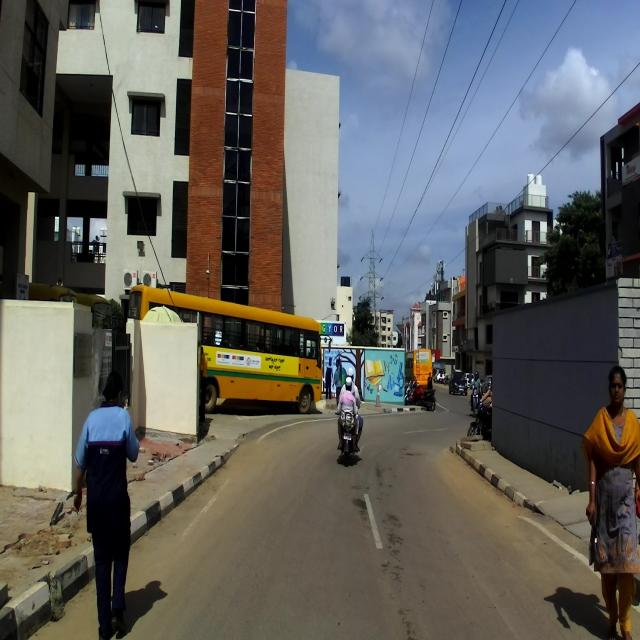bus: (126, 282, 332, 416)
motorcycle_TVS: (334, 389, 362, 466)
